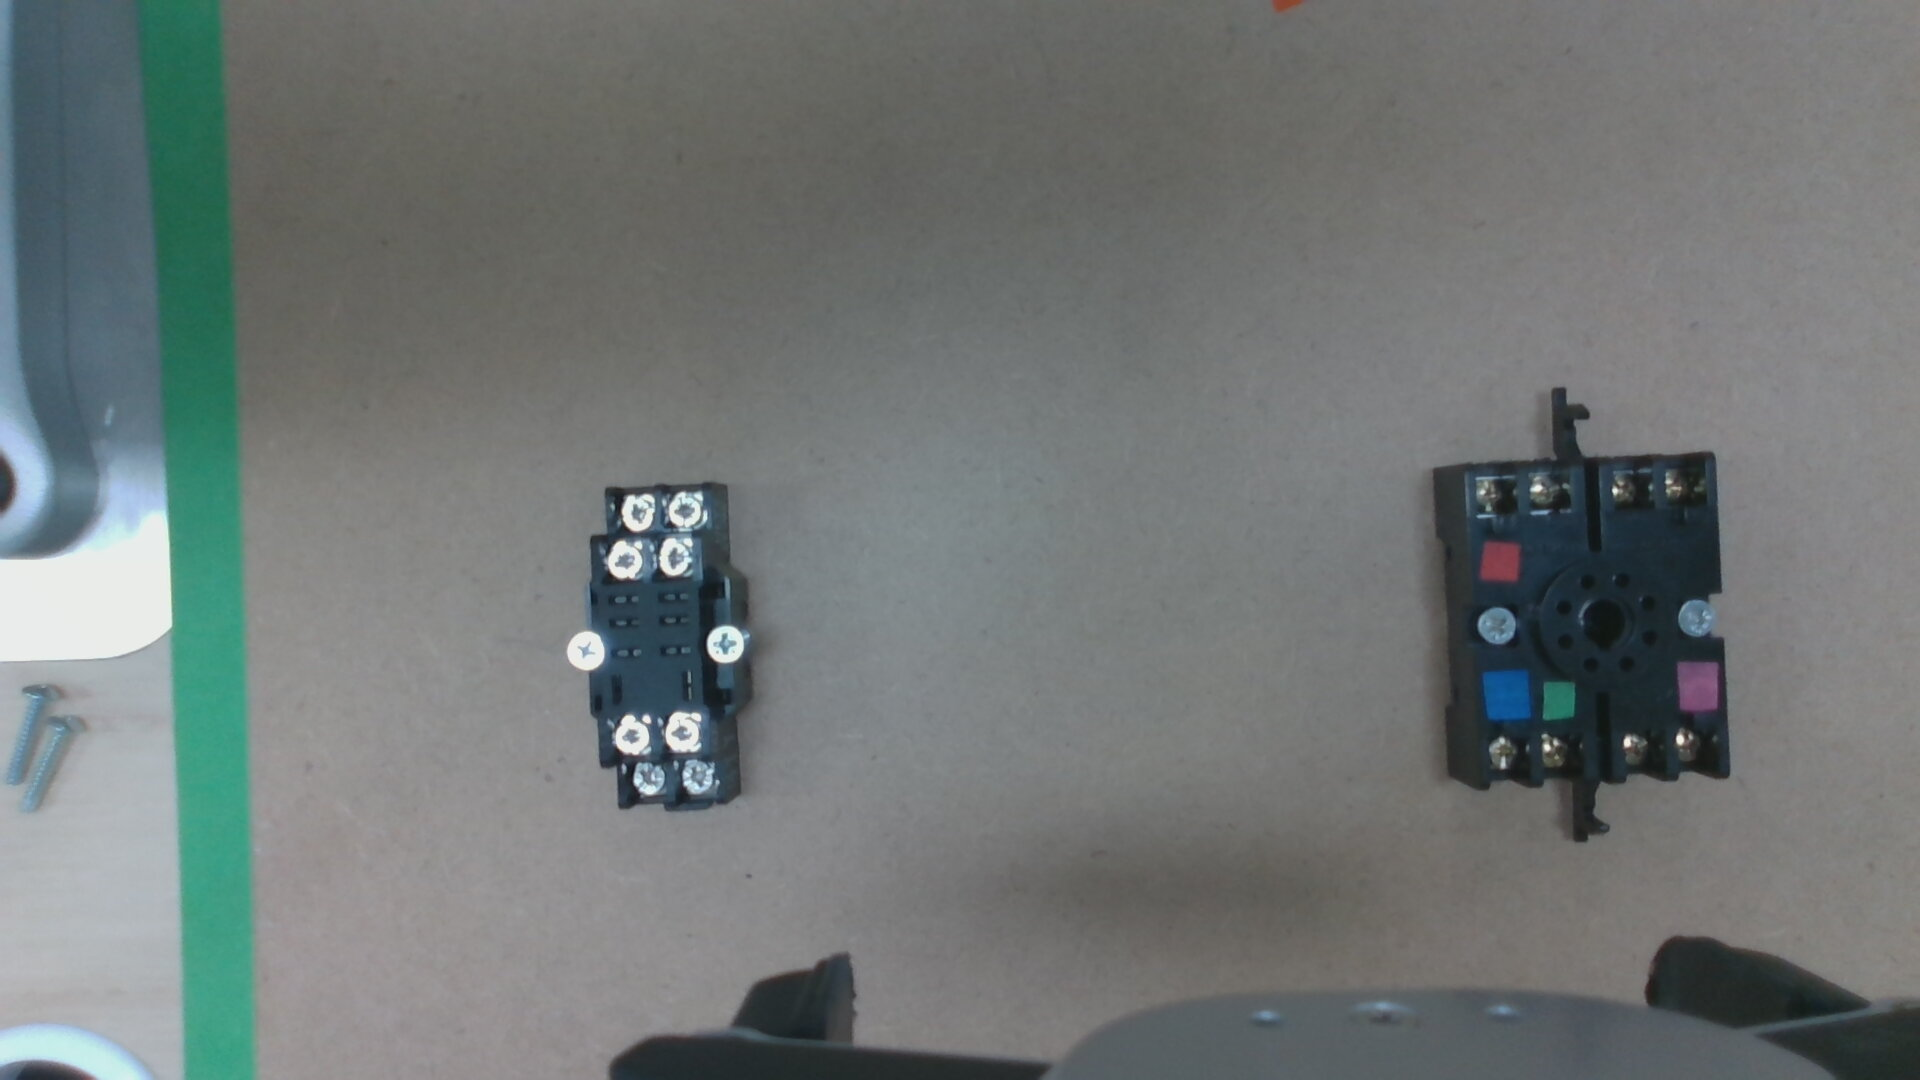relay 3: (663, 492, 704, 529)
relay 4: (616, 500, 653, 531)
relay 5: (676, 761, 713, 794)
relay 6: (626, 765, 665, 798)
relay 7: (662, 719, 700, 752)
relay 8: (611, 720, 651, 754)
